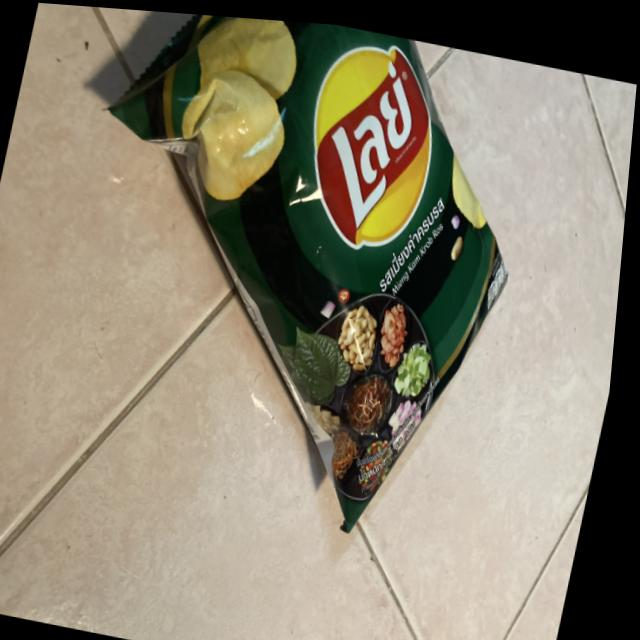Laygreen: (27, 4, 562, 547)
